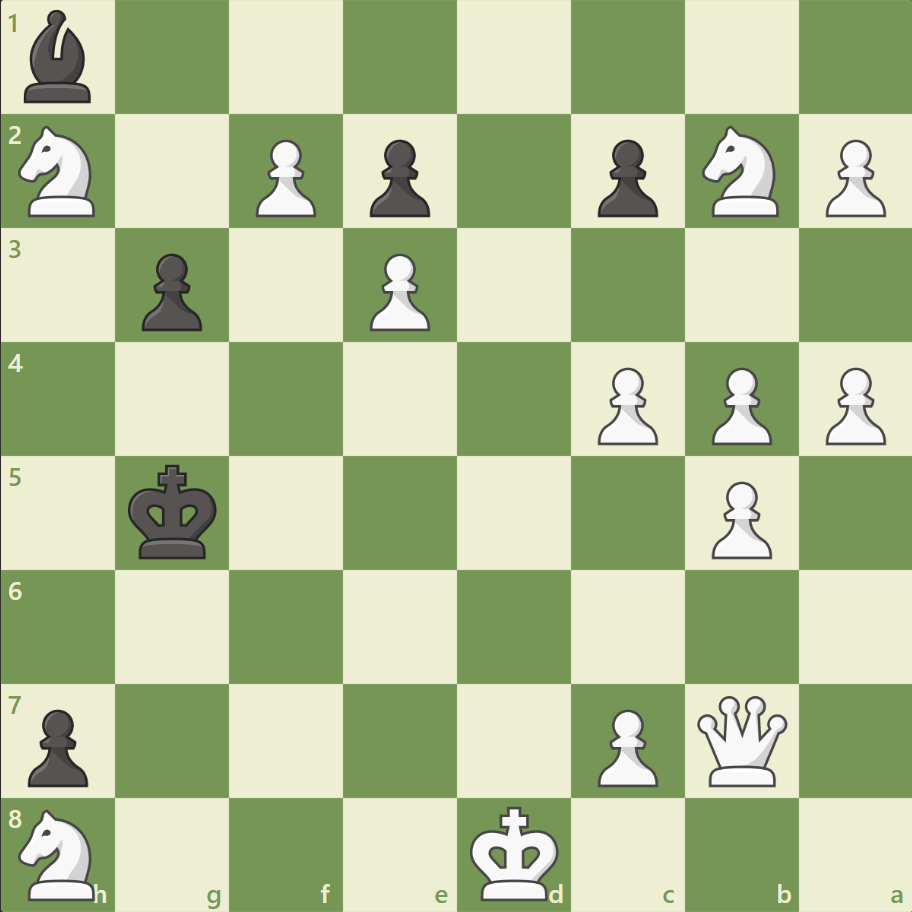K: (465, 798, 565, 906)
N: (11, 802, 108, 904), (692, 121, 789, 223), (11, 121, 108, 223)
P: (701, 473, 776, 564), (701, 359, 776, 450), (247, 132, 322, 223), (588, 700, 662, 791), (815, 359, 889, 450), (588, 359, 662, 450), (361, 246, 435, 337), (815, 132, 889, 223)
Q: (691, 690, 790, 789)
b: (17, 6, 101, 109)
k: (124, 458, 224, 566)
p: (20, 700, 95, 791), (133, 246, 208, 337), (588, 132, 662, 223), (361, 132, 435, 223)
